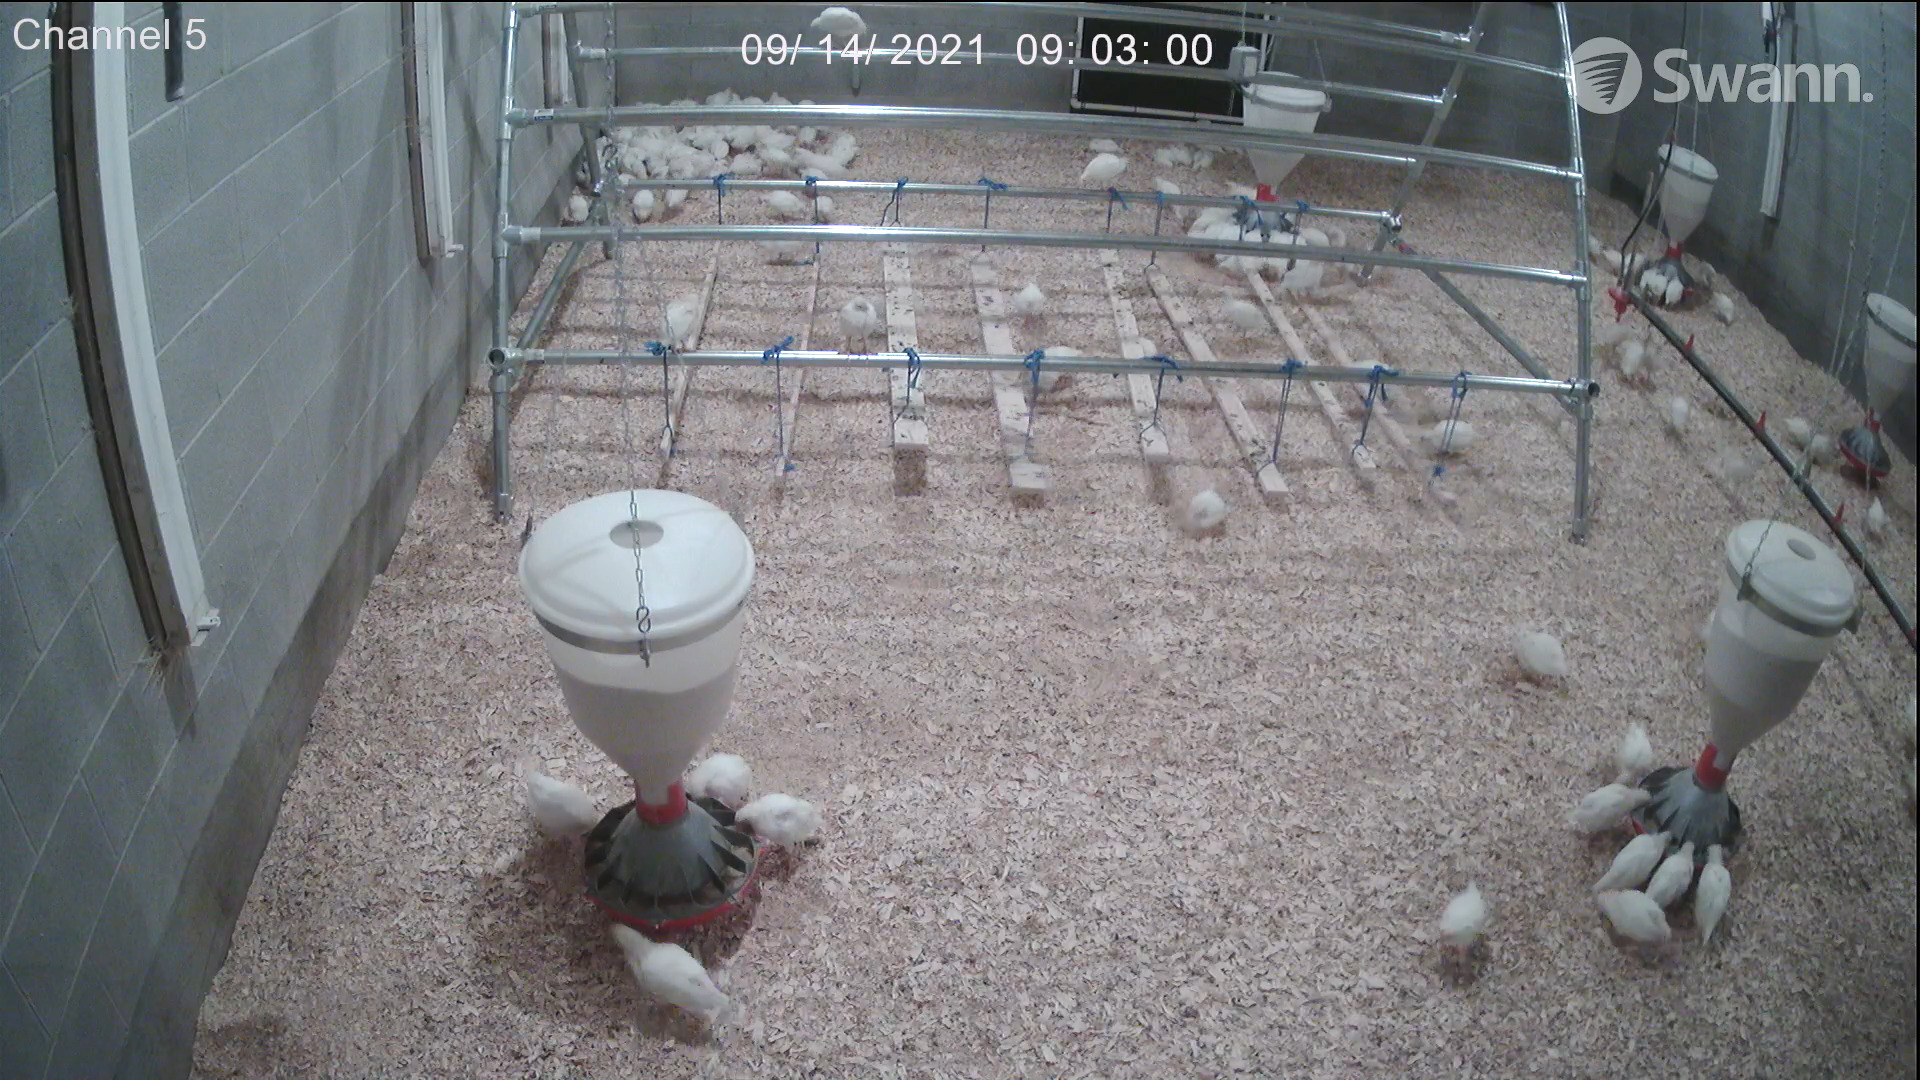Perching: (796, 277, 887, 371), (644, 287, 712, 353), (1064, 140, 1134, 196), (1271, 249, 1336, 302), (808, 11, 876, 61)
